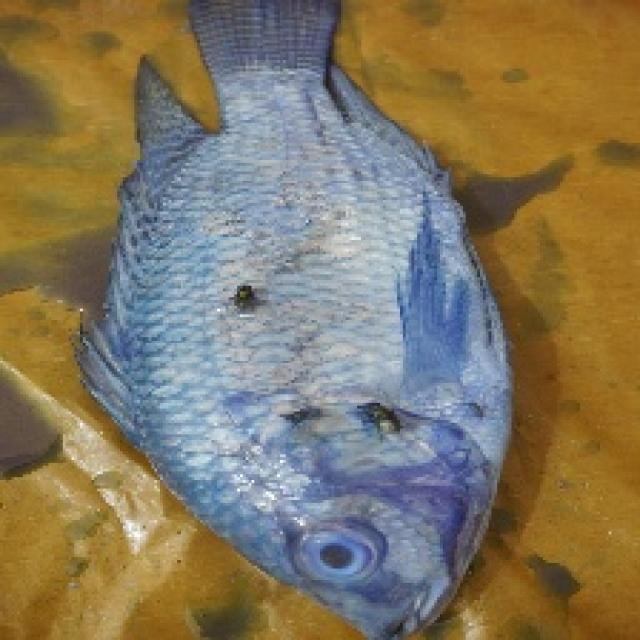Non-Fresh: (101, 173, 549, 640), (283, 520, 401, 599)
